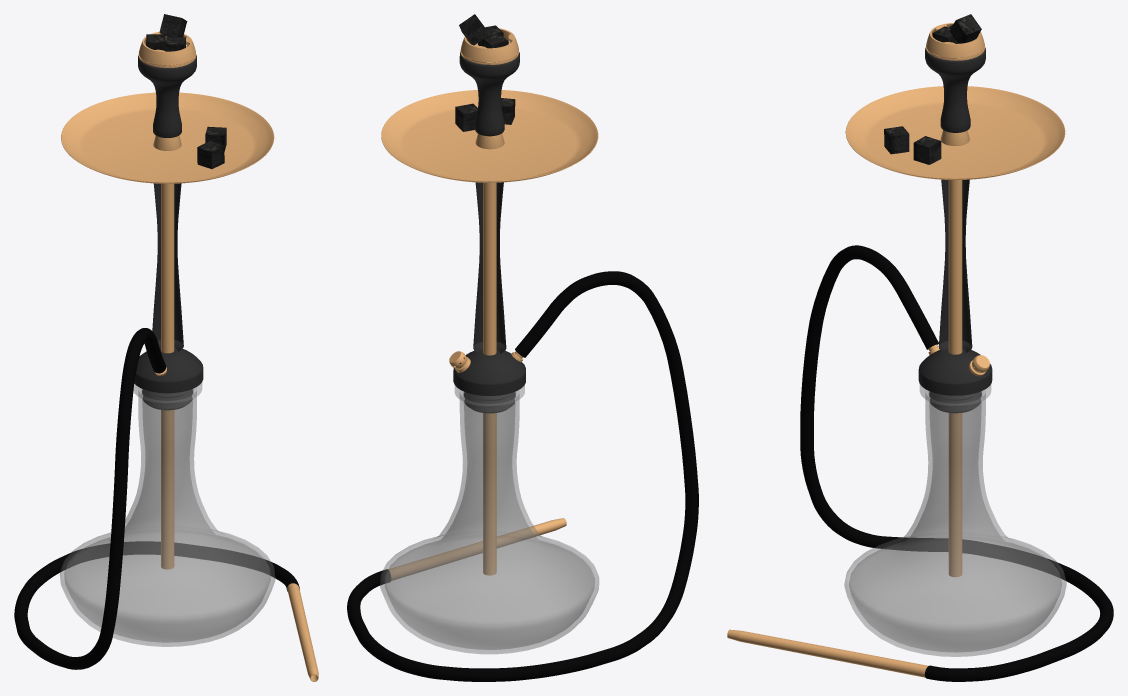
File: hookah.glb
The picture shows the model from 3 angles, left to right: view 1: azimuth 30°, elevation 25°; view 2: azimuth 150°, elevation 25°; view 3: azimuth 270°, elevation 25°; orthographic projection. The views are drawn at different scales.
Parts seen in each view (by area): view 1: Circle, Circle.003, Cylinder.002, Cylinder, Circle.008, Circle.001, Circle.002, Cylinder.003, Circle.009, Cylinder.001, Cube.005, Cube.003; view 2: Circle, Circle.003, Cylinder.002, Cylinder, Circle.001, Circle.008, Circle.002, Cylinder.003, Circle.009, Cylinder.001, Cube.003, Cube.004; view 3: Circle, Circle.003, Cylinder.002, Cylinder, Circle.001, Cylinder.003, Circle.008, Circle.002, Circle.009, Cylinder.001, Cube.004, Cube.003 (+1 smaller).
Part boxes in pixels (x1,y1,x2,y2): Circle: [60, 383, 275, 646]; Circle.003: [61, 92, 274, 183]; Cylinder.002: [14, 328, 299, 669]; Cylinder: [153, 135, 181, 569]; Circle.008: [138, 54, 196, 137]; Circle.001: [134, 347, 203, 393]; Circle.002: [152, 183, 183, 351]; Cylinder.003: [287, 583, 318, 681]; Circle.009: [138, 32, 196, 67]; Cylinder.001: [142, 389, 192, 410]; Cube.005: [197, 141, 224, 168]; Cube.003: [159, 14, 187, 37]; Circle: [380, 385, 598, 653]; Circle.003: [381, 90, 598, 182]; Cylinder.002: [347, 271, 698, 681]; Cylinder: [475, 133, 504, 575]; Circle.001: [453, 349, 525, 395]; Circle.008: [459, 51, 519, 136]; Circle.002: [473, 182, 506, 353]; Cylinder.003: [389, 518, 566, 580]; Circle.009: [460, 28, 518, 64]; Cylinder.001: [463, 392, 515, 413]; Cube.003: [459, 14, 488, 45]; Cube.004: [455, 103, 477, 131]; Circle: [844, 385, 1066, 656]; Circle.003: [845, 86, 1065, 179]; Cylinder.002: [800, 245, 1113, 681]; Cylinder: [940, 130, 969, 577]; Circle.001: [918, 349, 992, 395]; Cylinder.003: [727, 629, 928, 677]; Circle.008: [925, 47, 985, 132]; Circle.002: [938, 179, 972, 352]; Circle.009: [926, 23, 985, 60]; Cylinder.001: [929, 391, 981, 413]; Cube.004: [913, 136, 941, 164]; Cube.003: [949, 14, 981, 43].
Bounding box in the file's own units: 2.24 × 4.75 × 2.7.
Materials: 9 (5 with a texture image).
